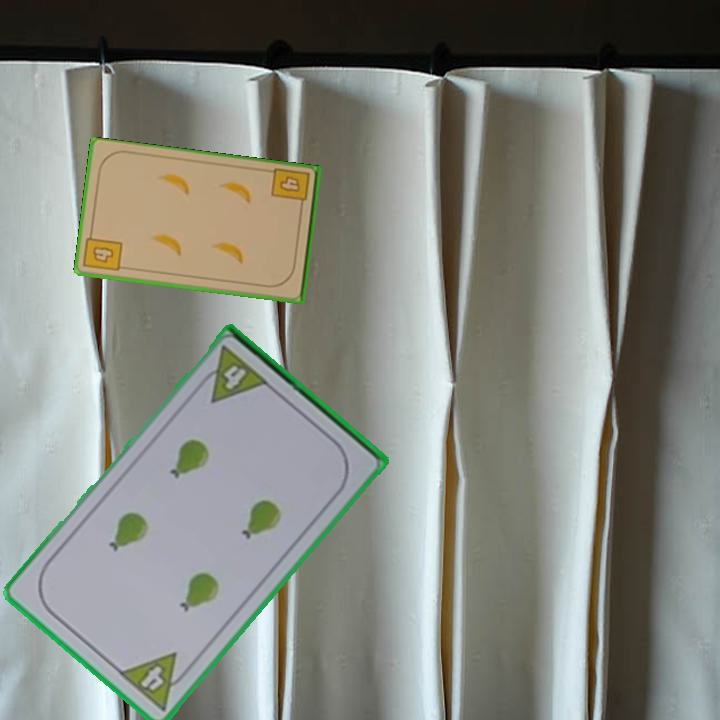4b: (268, 165, 313, 213), (81, 228, 126, 274)
4p: (115, 649, 195, 714), (193, 342, 272, 406)
